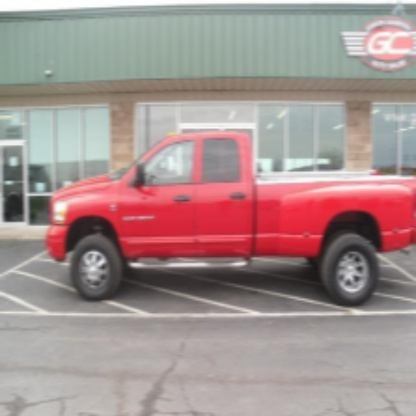Vehicle: (43, 128, 416, 302)
